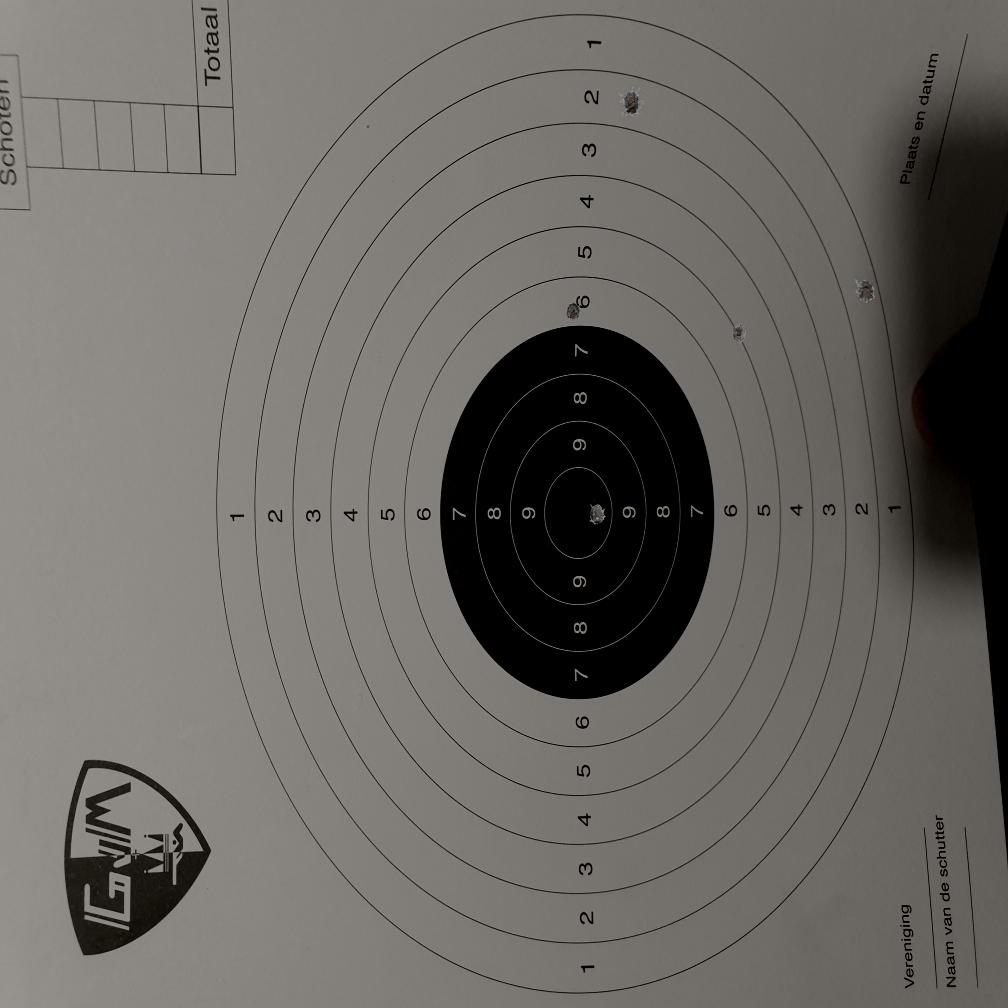1: (854, 277, 876, 304)
10: (588, 503, 606, 525)
2: (618, 85, 645, 117)
5: (731, 323, 748, 344)
6: (565, 302, 582, 322)
Target: (215, 12, 917, 993)
black_contour: (438, 324, 716, 700)
